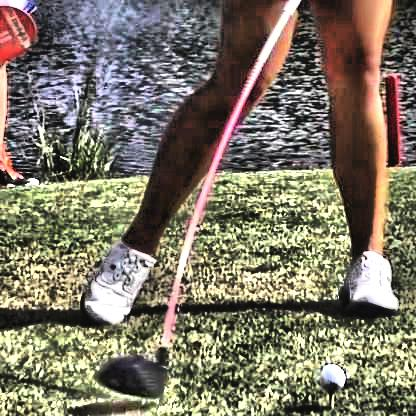golfball: (315, 360, 344, 392)
